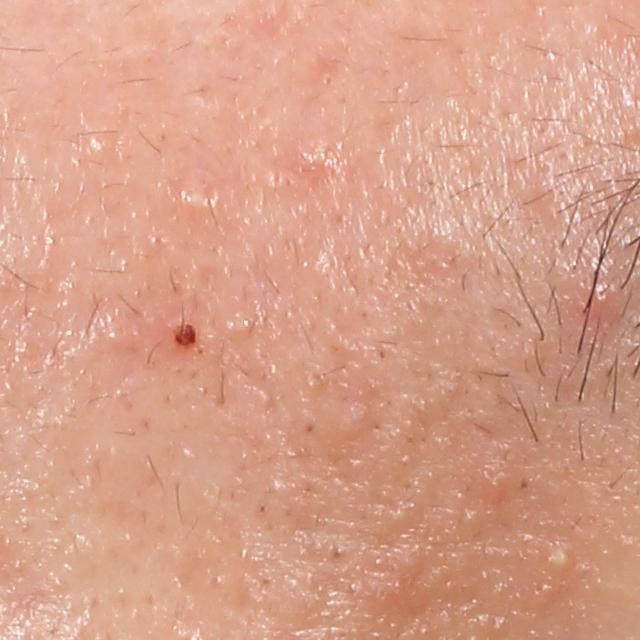papule: (575, 261, 625, 328)
pustule: (293, 134, 343, 180), (536, 535, 578, 584), (176, 177, 218, 222)
